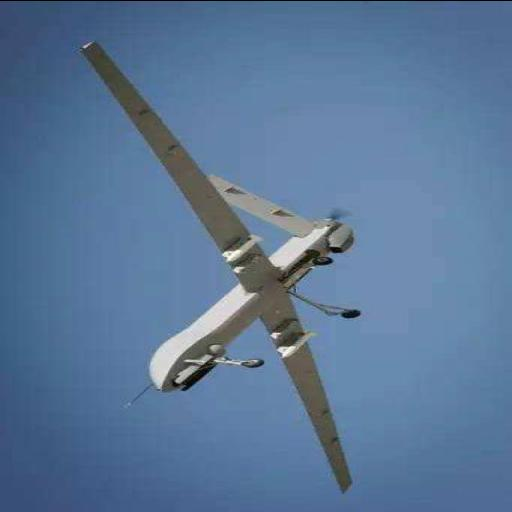uav: (62, 38, 408, 500)
